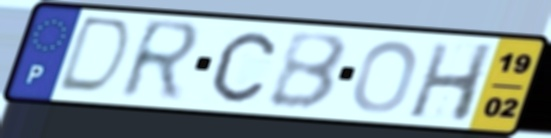B: (264, 32, 351, 113)
C: (209, 29, 279, 105)
D: (51, 13, 137, 99)
H: (404, 40, 498, 125)
O: (350, 38, 422, 115)
R: (114, 16, 206, 105)
